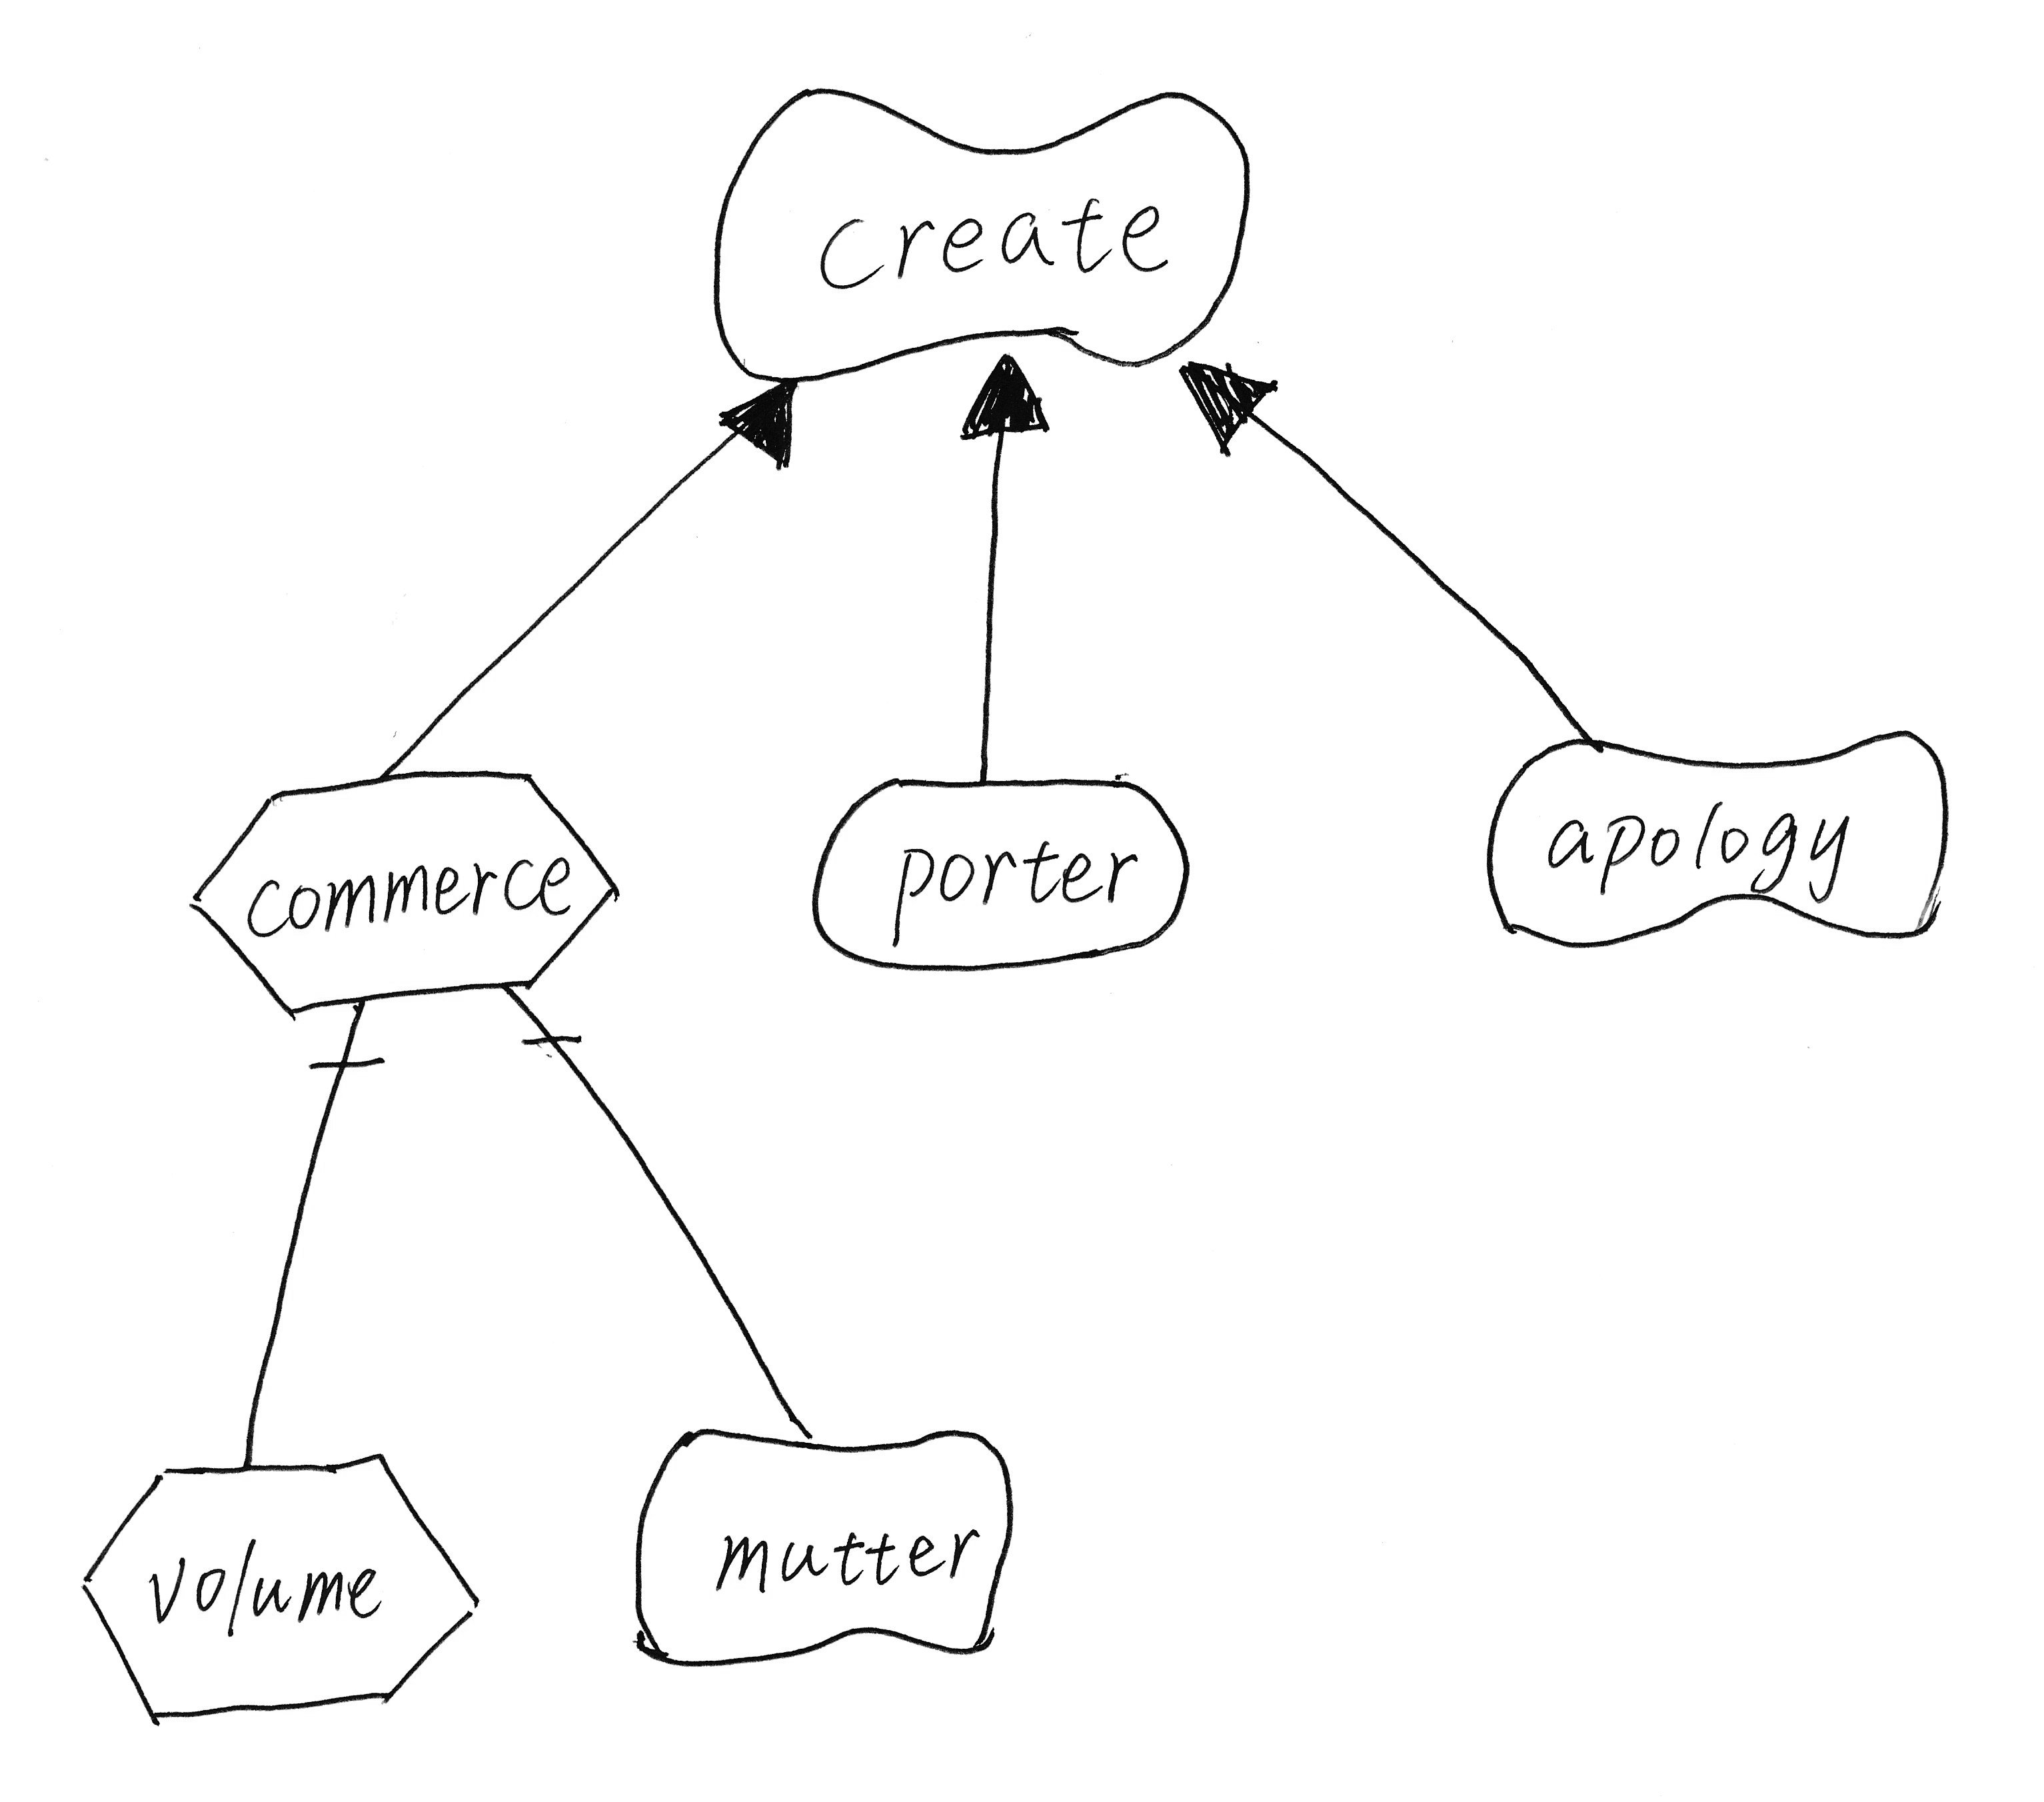and: (485, 958, 598, 1080), (297, 979, 409, 1103)
goal: (786, 753, 1218, 997)
or: (1166, 346, 1293, 463), (943, 339, 1061, 454), (715, 360, 811, 485)
quality: (685, 54, 1273, 410), (1468, 710, 1973, 986), (612, 1404, 1035, 1691)
task: (66, 1432, 513, 1745), (172, 748, 644, 1035)
